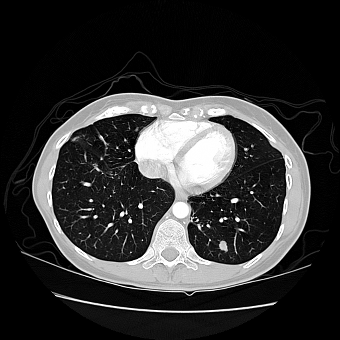nodule: (218, 241, 228, 251)
